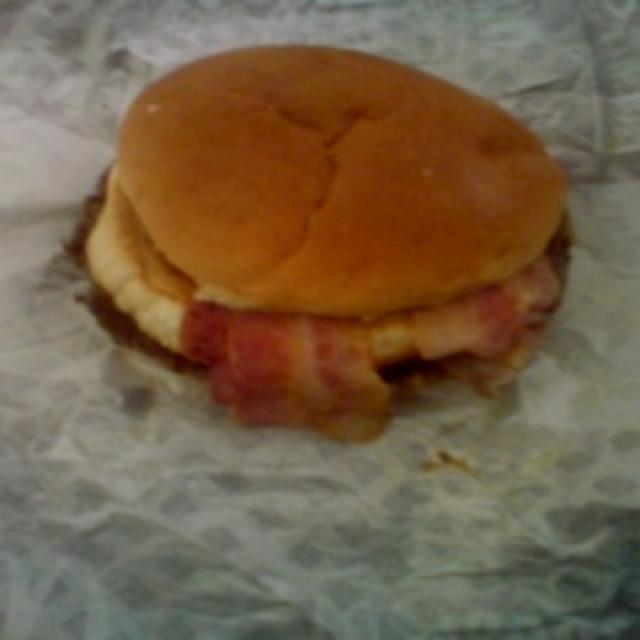hamburger: (80, 29, 572, 393)
